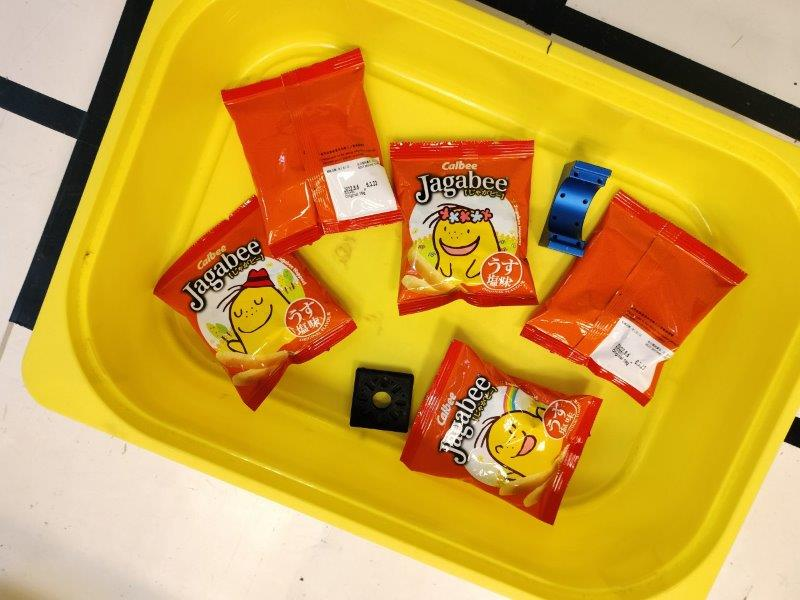Jagabee: (522, 192, 749, 408), (153, 196, 355, 410), (400, 339, 606, 527), (220, 48, 404, 257), (390, 139, 541, 313)
